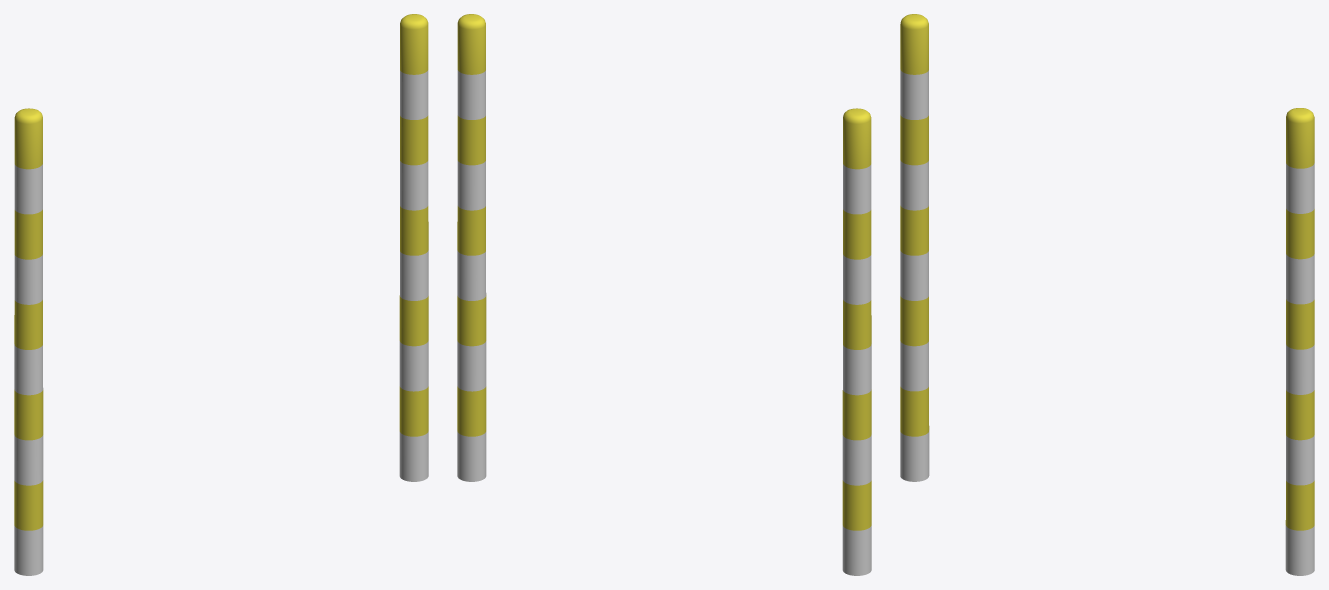
File: gatev2.fbx
3 views of the same model, side by side, from view 1: azimuth 30°, elevation 25°; view 2: azimuth 150°, elevation 25°; view 3: azimuth 330°, elevation 25° (orthographic).
Parts seen in each view (by area): view 1: gate; view 2: gate; view 3: gate.
Boxes of the visible parts, left/top/right/bottom form: gate: left=14, top=14, right=428, bottom=575; gate: left=457, top=14, right=871, bottom=575; gate: left=900, top=14, right=1314, bottom=575.
Bounding box in the file's own units: 1.9 × 2.02 × 0.1161.
